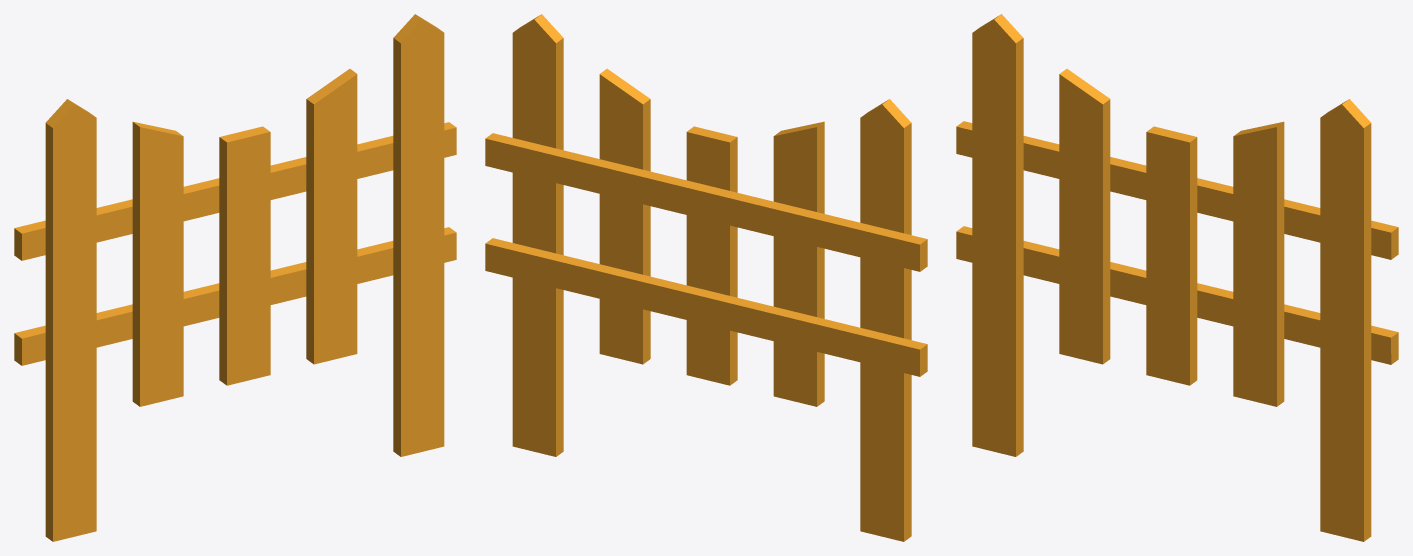
Rendered from SM_Fence_Picket_White_1m.fbx.
3 views of the same model, side by side, from view 1: azimuth 30°, elevation 25°; view 2: azimuth 150°, elevation 25°; view 3: azimuth 330°, elevation 25° (orthographic).
Parts seen in each view (by area): view 1: fence-picket-white-1m; view 2: fence-picket-white-1m; view 3: fence-picket-white-1m.
Boxes of the visible parts, x1,y1,x2,y2 form: fence-picket-white-1m: (14, 14, 456, 541); fence-picket-white-1m: (485, 14, 927, 541); fence-picket-white-1m: (956, 14, 1398, 541).
Size of the model in its own units: 1 by 0.9499 by 0.06.
